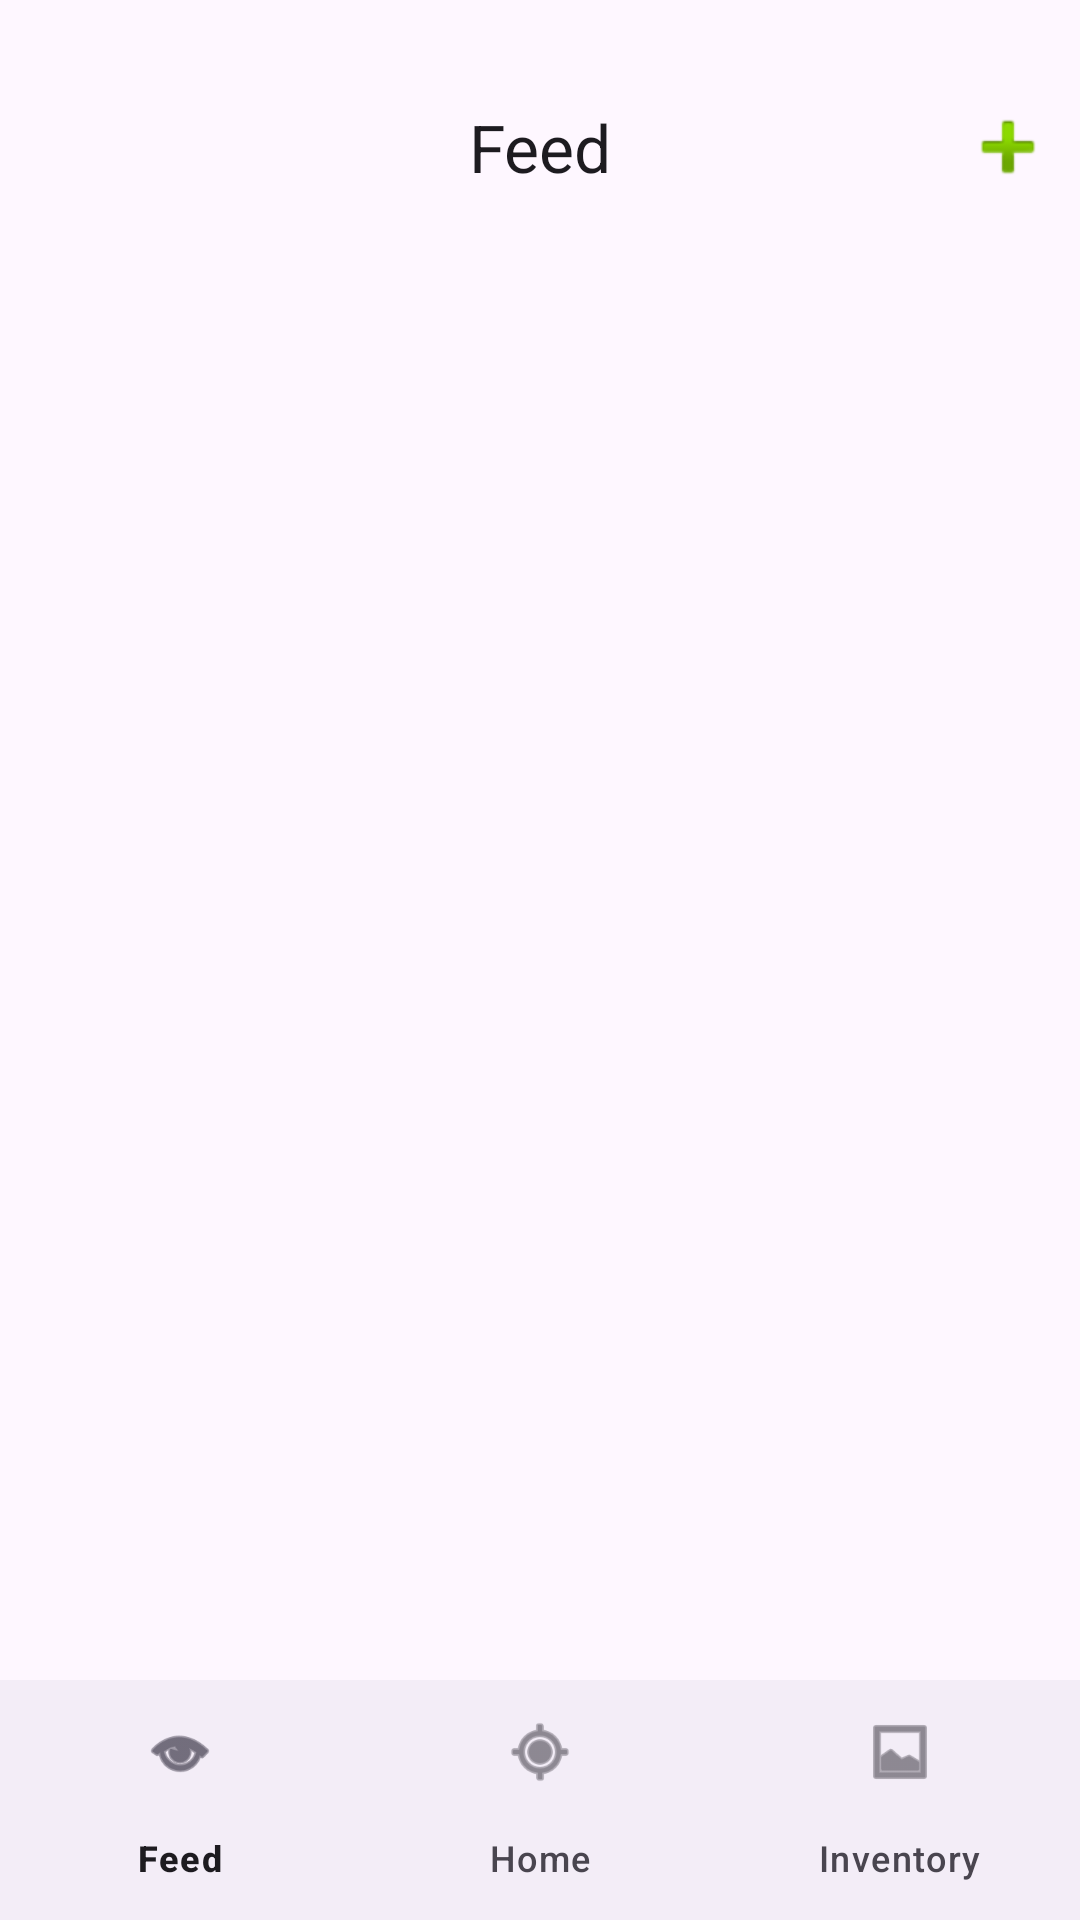

Screen size 1080px×1920px. Icon name, then its box in pixels as (x1, y1, x2, y2):
add: (981, 120, 1035, 174)
